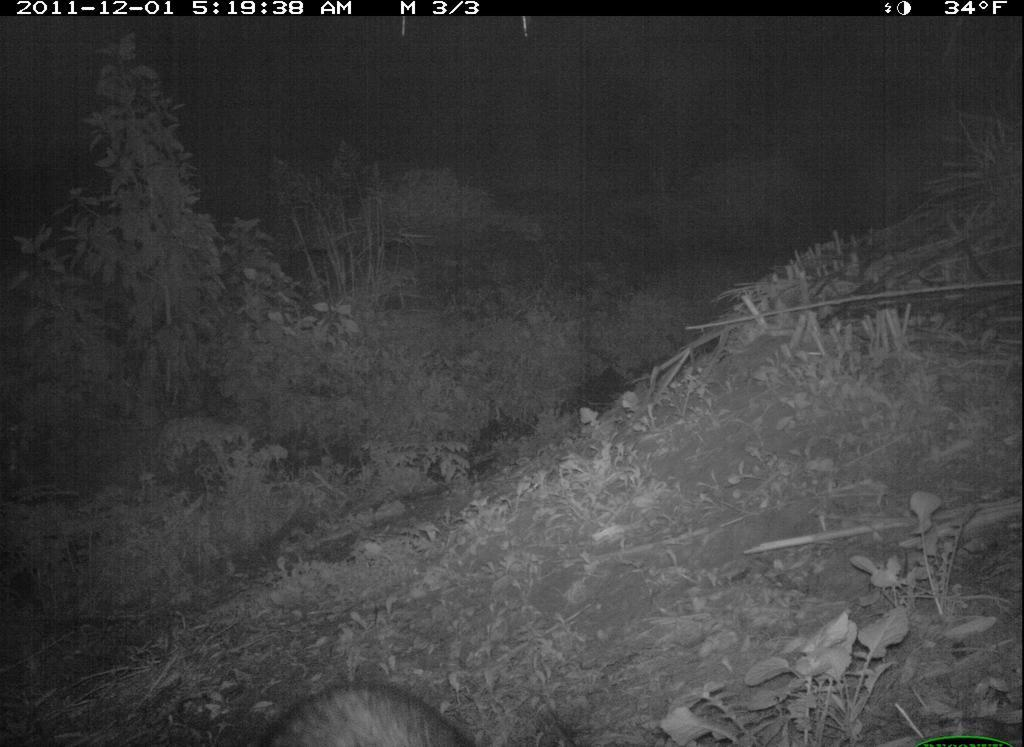raccoon: (226, 666, 489, 747)
